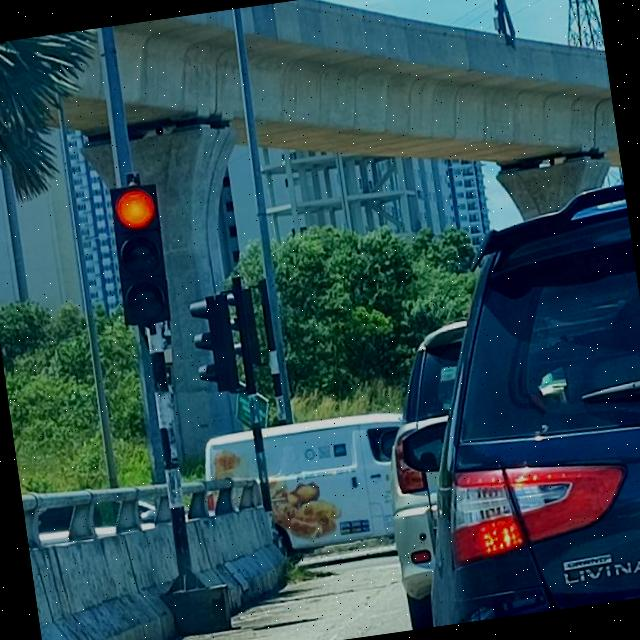red_light: (104, 182, 174, 329)
